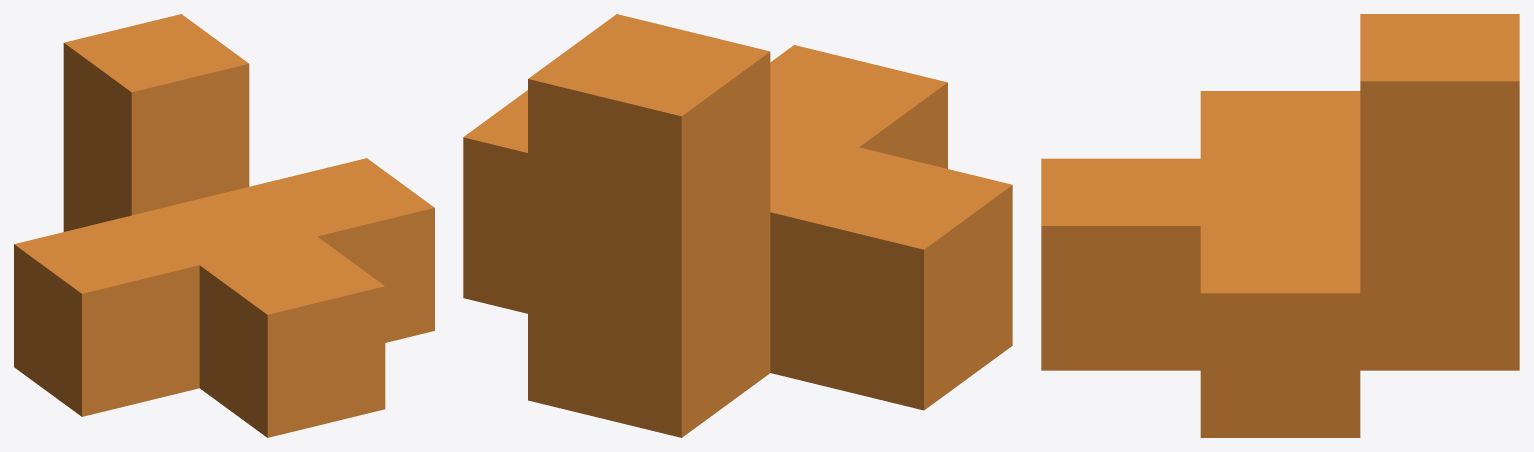
Rendered from duckling__leg_r.glb.
3 renders of one model, left to right at view 1: azimuth 30°, elevation 25°; view 2: azimuth 150°, elevation 25°; view 3: azimuth 270°, elevation 25°, orthographic. The views are drawn at different scales.
Visible parts, largest first — view 1: duckling__leg_r; view 2: duckling__leg_r; view 3: duckling__leg_r.
Part boxes in pixels (x1,y1,x2,y2): duckling__leg_r: [14, 14, 434, 437]; duckling__leg_r: [463, 14, 1012, 437]; duckling__leg_r: [1041, 14, 1519, 437].
Bounding box in the file's own units: 0.3 × 0.2 × 0.3.
Materials: 1 (1 with a texture image).
